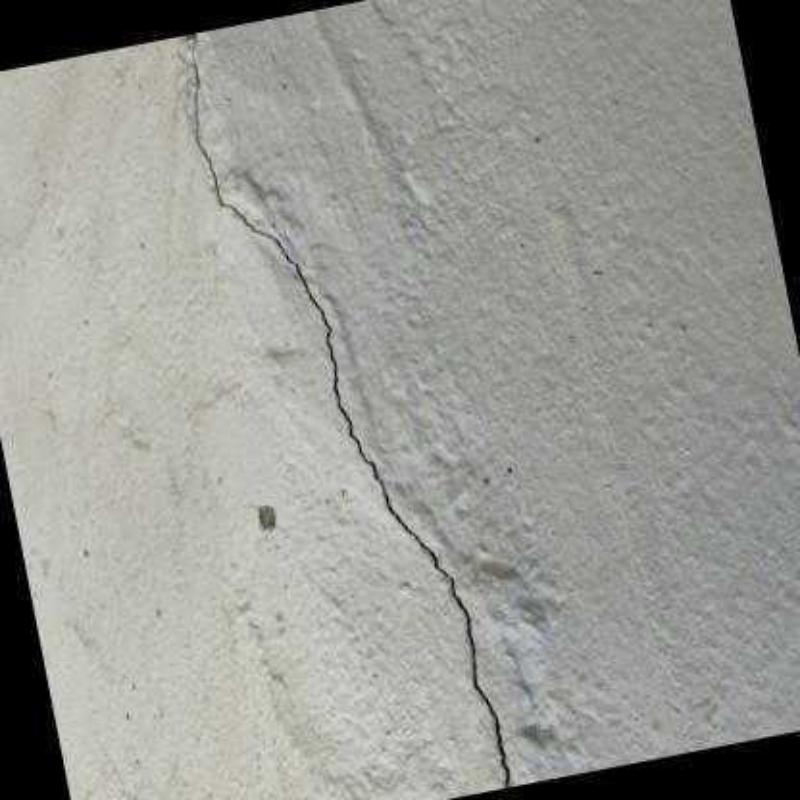crack: (192, 33, 510, 788)
